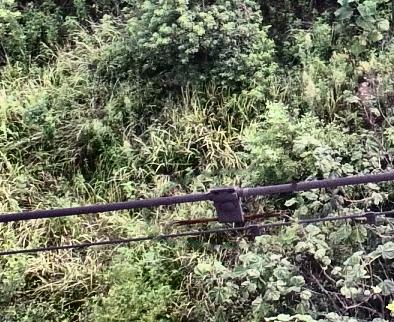damper_defect: (173, 186, 281, 228)
